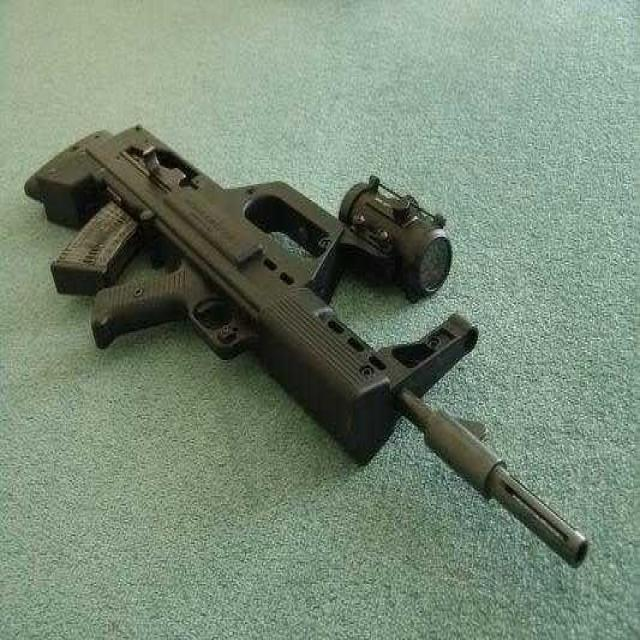RifleTel: (20, 114, 605, 608)
